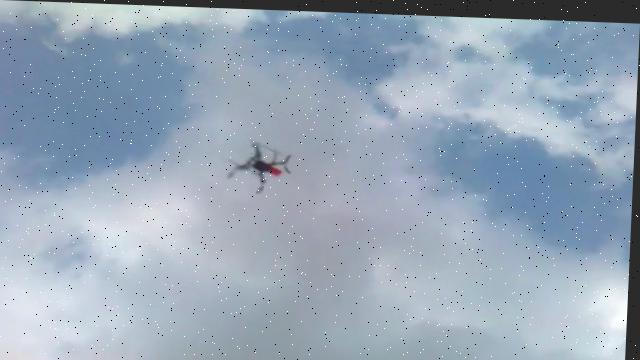drone: (228, 137, 297, 194)
